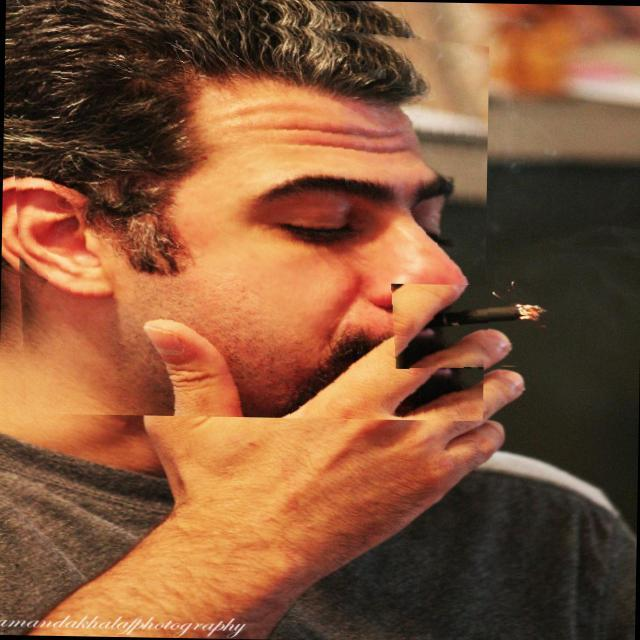cigarette: (389, 284, 586, 372)
